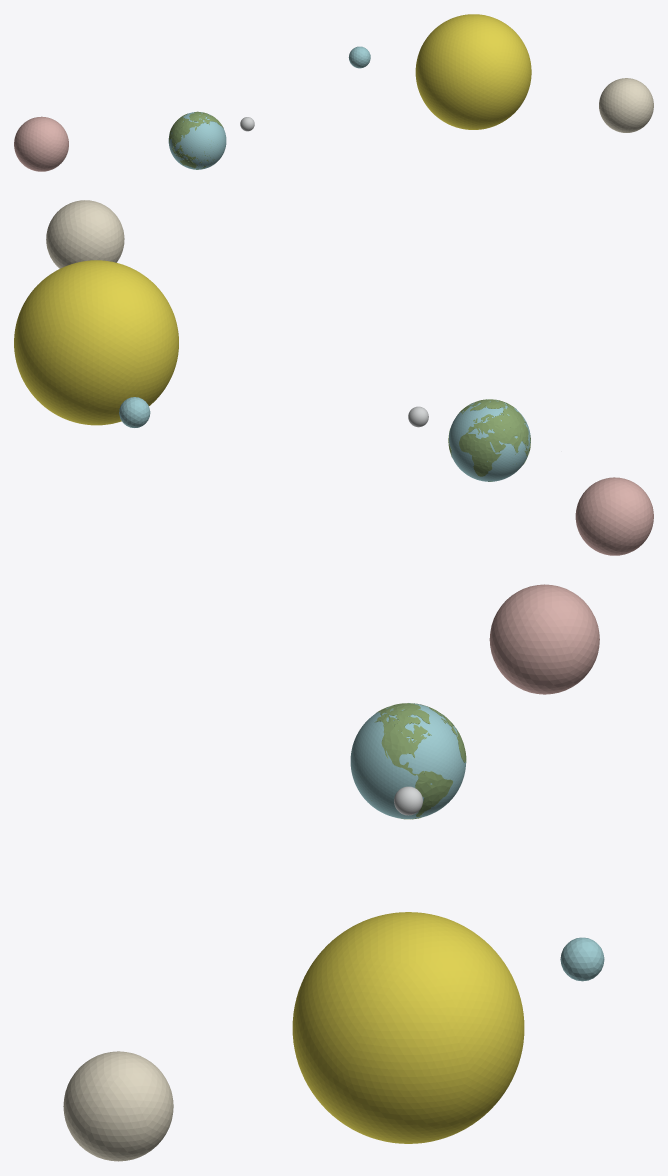
Rendered from tienda2.glb.
The picture shows the model from 3 angles, top to bottom: view 1: azimuth 30°, elevation 25°; view 2: azimuth 150°, elevation 25°; view 3: azimuth 270°, elevation 25°; orthographic projection. The views are drawn at different scales.
Visible parts, largest first — view 1: Mesh_Mesh_head_geo.001_lambert2SG.001; view 2: Mesh_Mesh_head_geo.001_lambert2SG.001; view 3: Mesh_Mesh_head_geo.001_lambert2SG.001.
Boxes of the visible parts, x1,y1,x2,y2 form: Mesh_Mesh_head_geo.001_lambert2SG.001: [14, 14, 653, 171]; Mesh_Mesh_head_geo.001_lambert2SG.001: [14, 200, 653, 555]; Mesh_Mesh_head_geo.001_lambert2SG.001: [63, 584, 604, 1161].
Bounding box in the file's own units: 210 × 40 × 93.3.
